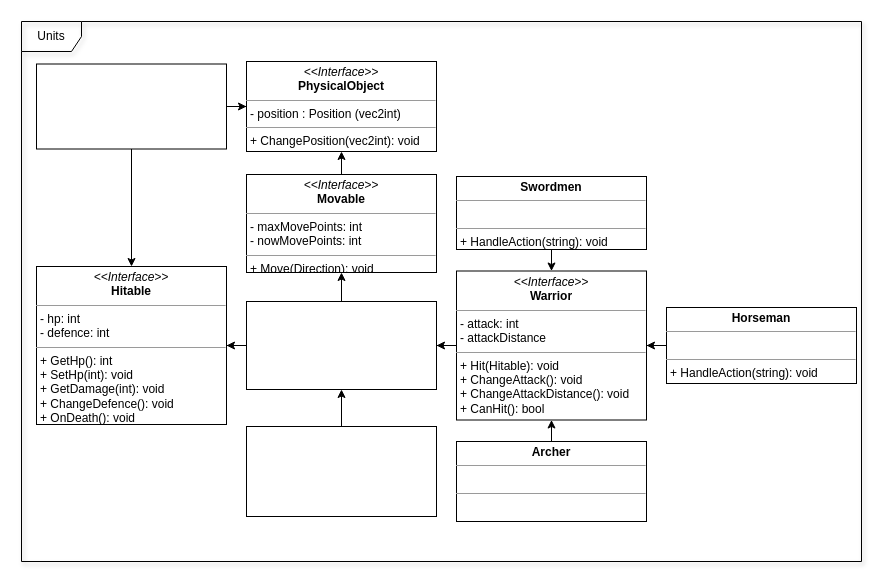
Some shapes in this 885 by 586 pixel diagram are drawn without their labels. Here are the shapes that lost their labels. From the top down, the centre of each, then its label:
At (131,106): "<<Interface>> Building + HandleAction(string): void".
At (341,345): "<<Interface>> Unit".
At (341,471): "<<Interface>> Worker + HandleAction(string): void".
